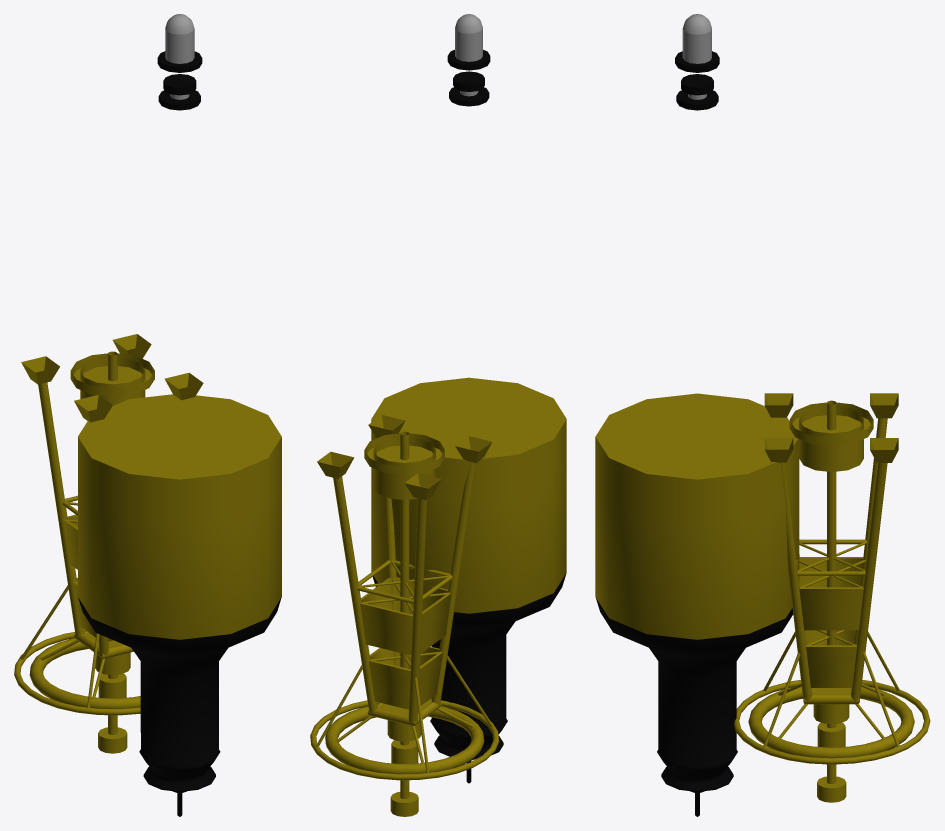
The model's file is BuoyYellow_.FBX.
3 views of the same model, side by side, from view 1: azimuth 30°, elevation 25°; view 2: azimuth 150°, elevation 25°; view 3: azimuth 270°, elevation 25° (orthographic). The views are drawn at different scales.
Visible parts, largest first — view 1: Buoy, Tower, Light_2; view 2: Buoy, Tower, Light_2; view 3: Buoy, Tower, Light_2.
Boxes of the visible parts, <box> form: Buoy: <box>78,394,281,816</box>; Tower: <box>14,334,203,753</box>; Light_2: <box>157,14,202,110</box>; Buoy: <box>371,377,566,783</box>; Tower: <box>310,415,499,816</box>; Light_2: <box>447,14,490,106</box>; Buoy: <box>595,393,799,816</box>; Tower: <box>734,393,930,802</box>; Light_2: <box>675,14,719,110</box>.
Size of the model in its own units: 3.2 by 13.87 by 5.25.
